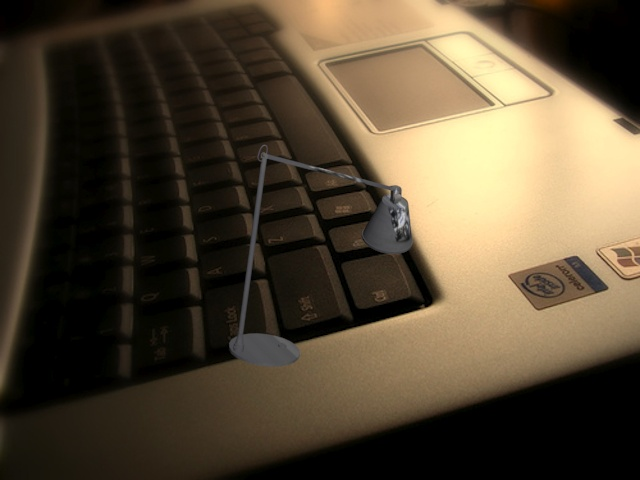desk_lamp: (225, 145, 416, 368)
